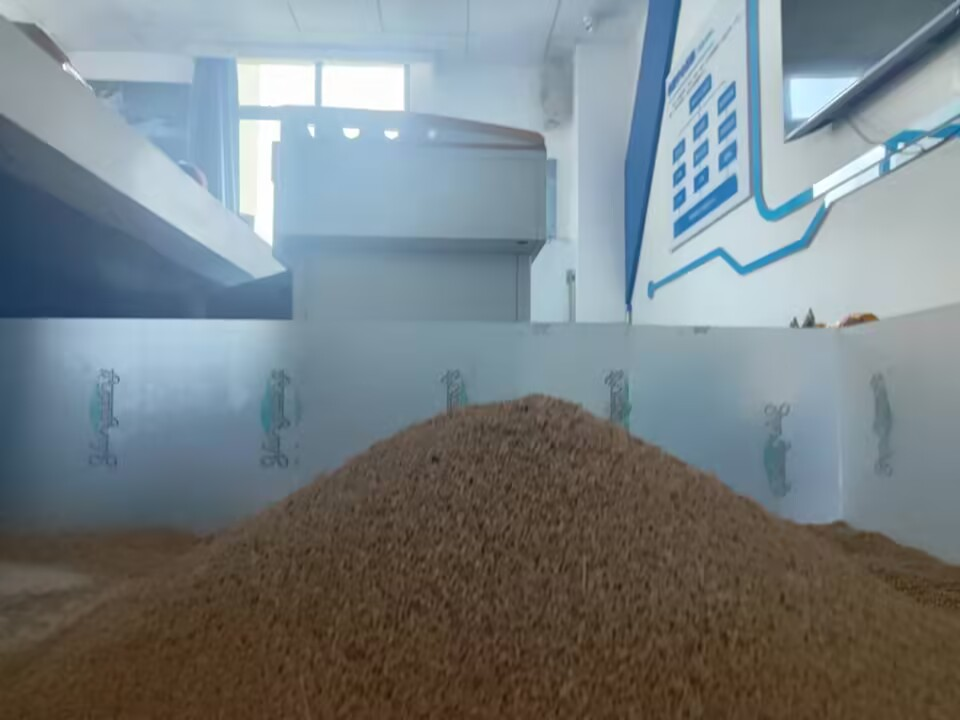Grain: (197, 394, 868, 708)
